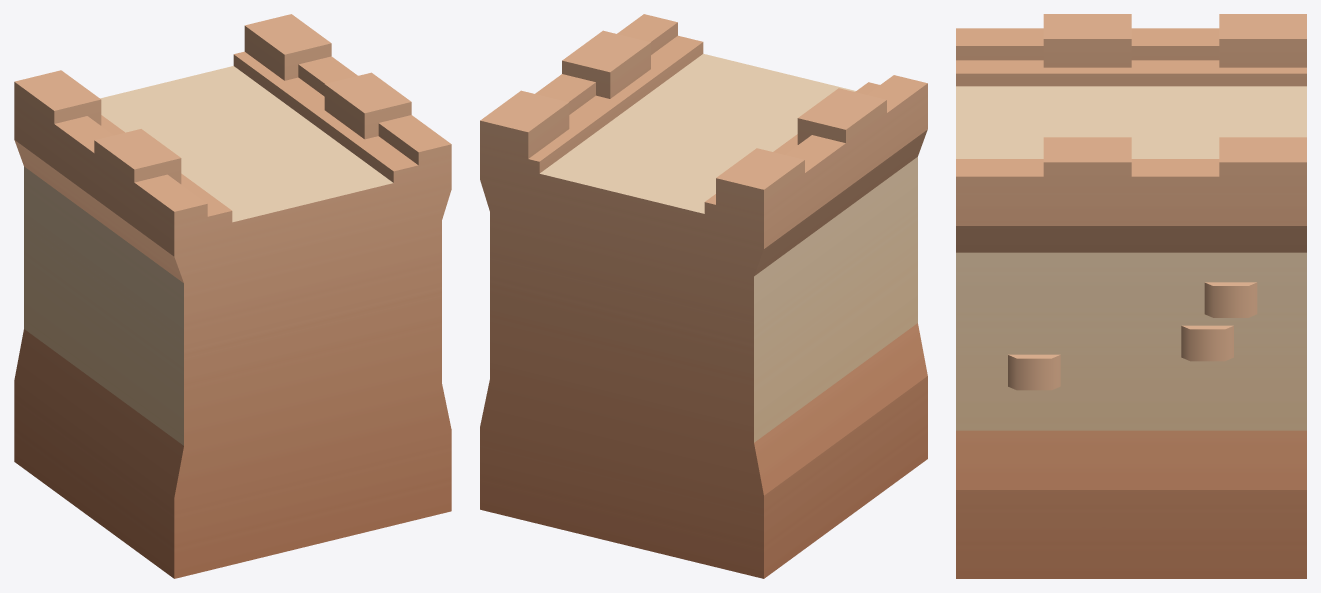
Rendered from wall.obj.
The picture shows the model from 3 angles, left to right: view 1: azimuth 30°, elevation 25°; view 2: azimuth 150°, elevation 25°; view 3: azimuth 270°, elevation 25°; orthographic projection. The views are drawn at different scales.
Parts seen in each view (by area): view 1: wall; view 2: wall; view 3: wall.
Boxes of the visible parts, box(x1,y1,x2,y2) form: wall: box(14, 14, 451, 578); wall: box(480, 14, 927, 578); wall: box(956, 14, 1306, 578).
Bounding box in the file's own units: 1 × 1.31 × 1.
1 material, 1 textured.
